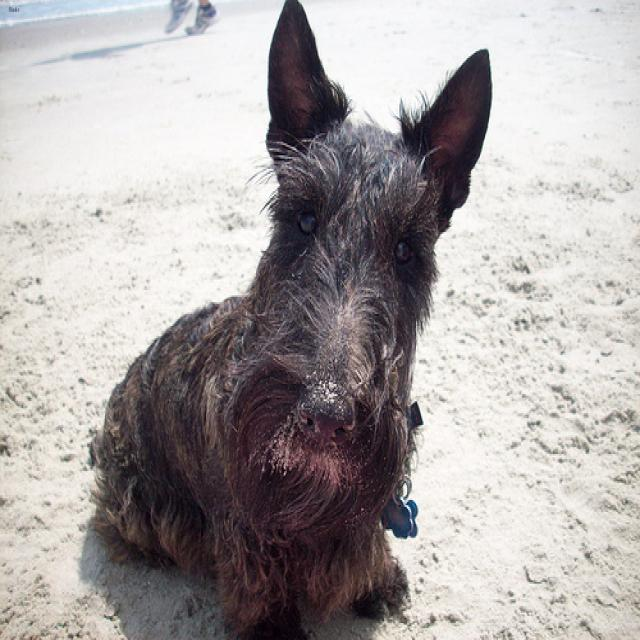dog-scottish_terrier: (81, 2, 499, 637)
